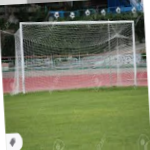goals: (11, 19, 138, 95)
